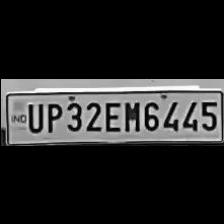2: (82, 98, 102, 132)
3: (62, 99, 82, 131)
4: (160, 97, 180, 131), (178, 96, 198, 130)
5: (196, 97, 218, 131)
6: (140, 97, 158, 130)
E: (100, 98, 119, 132)
M: (120, 97, 140, 130)
P: (42, 98, 60, 132)
U: (23, 98, 43, 132)
